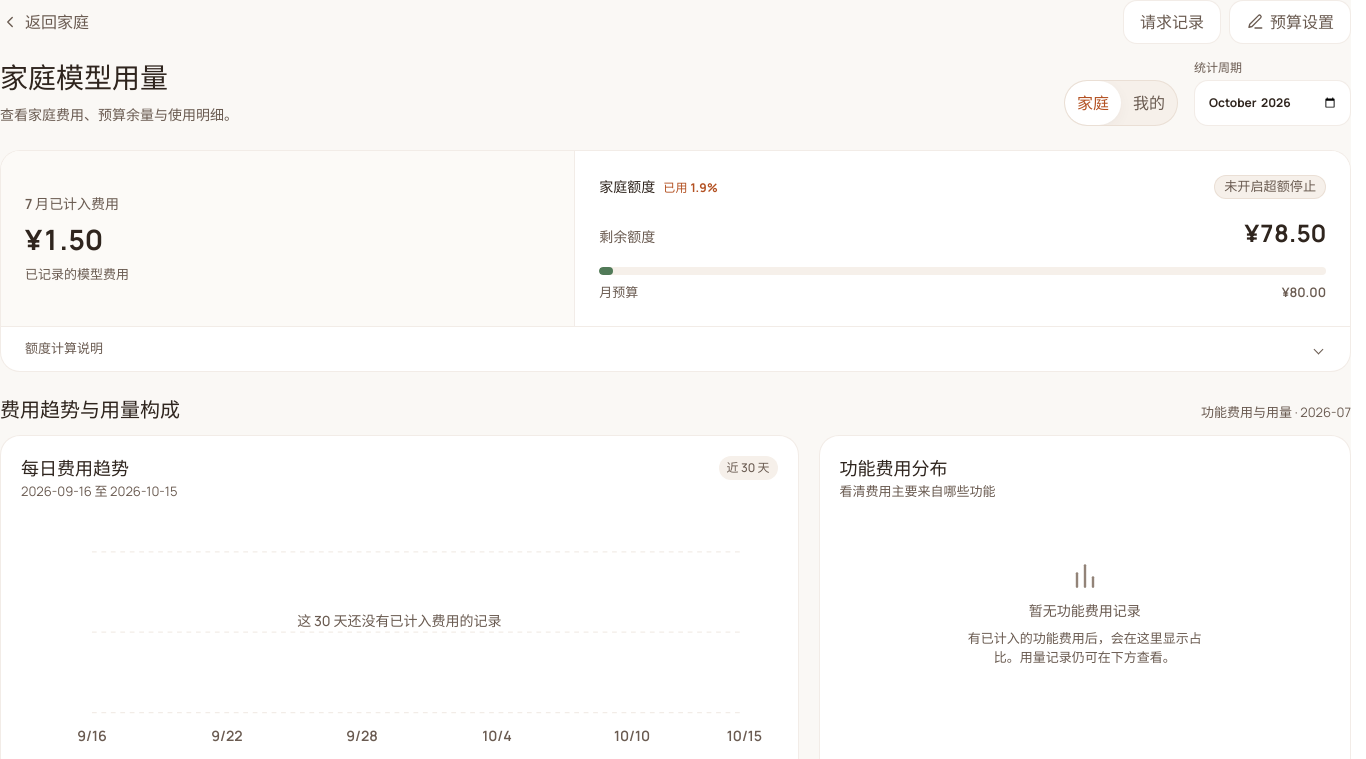
Test: ModelUsagePolicySettings › keeps one guardrail per capability and only offers meters that capability can produce
Expected: the heading "家庭模型用量" is shown, [0, 58, 168, 96]
Click the button "预算设置".
click(1290, 22)  # box [1229, 0, 1351, 44]
(page scrolled)
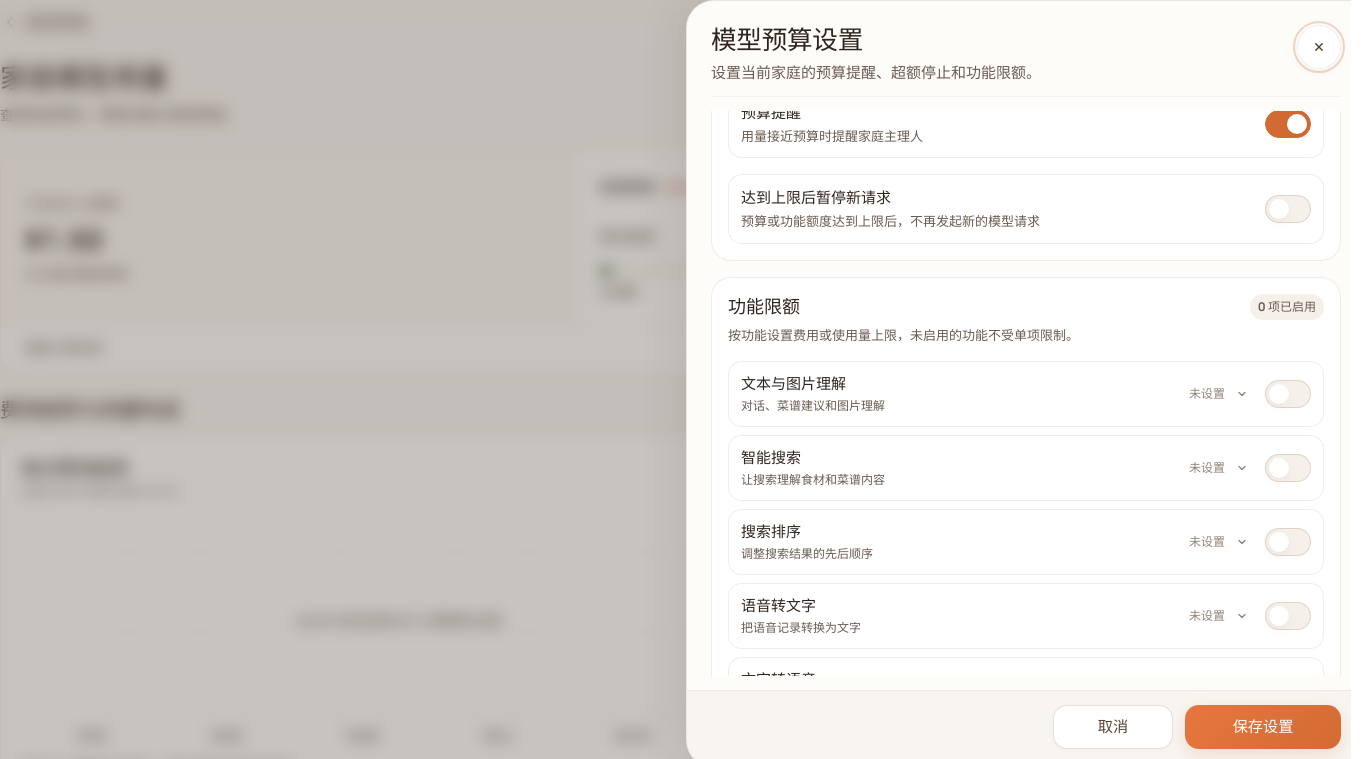
Click the checkbox named "文本与图片理解限额".
click(1288, 394)  # box [1265, 380, 1311, 408]
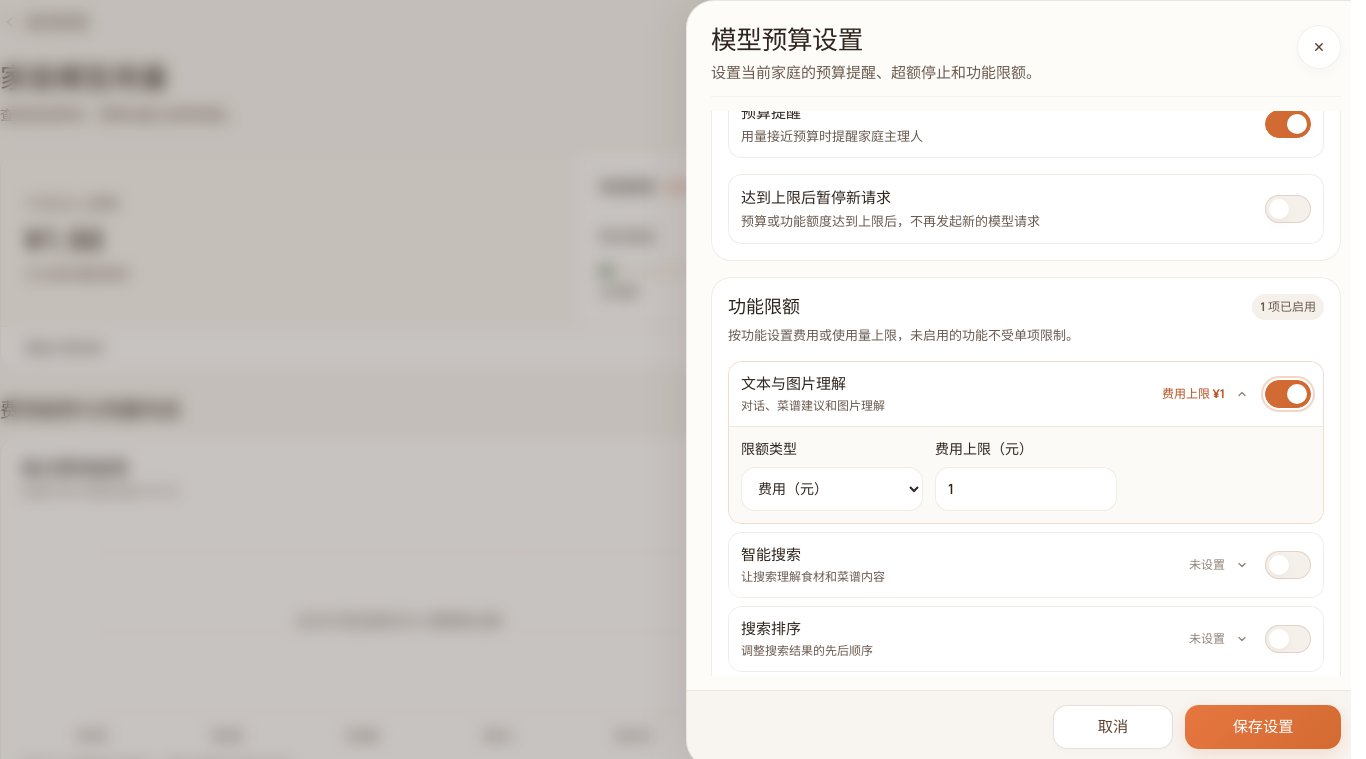
Expected: the button with aria-label "收起文本与图片理解限额设置" is expanded, [729, 362, 1265, 426]
Select "使用量" in the dropdown named "文本与图片理解限额类型" at (832, 489), box [741, 467, 923, 511]
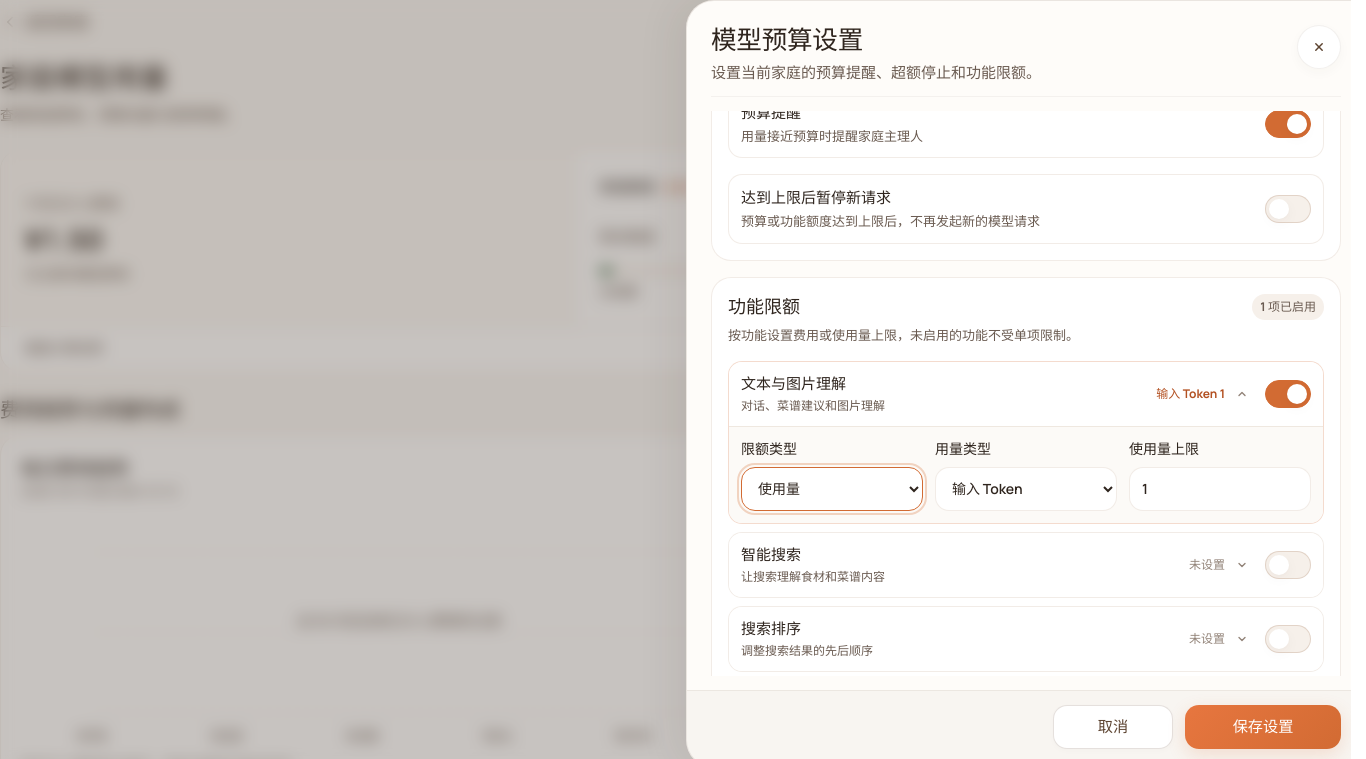
Expected: the dropdown named "文本与图片理解用量类型" shows "输入 Token", [935, 467, 1117, 511]
Replace the text in the field named "文本与图片理解限额上限" with "120.005000000000" at (1220, 489), box [1129, 467, 1311, 511]
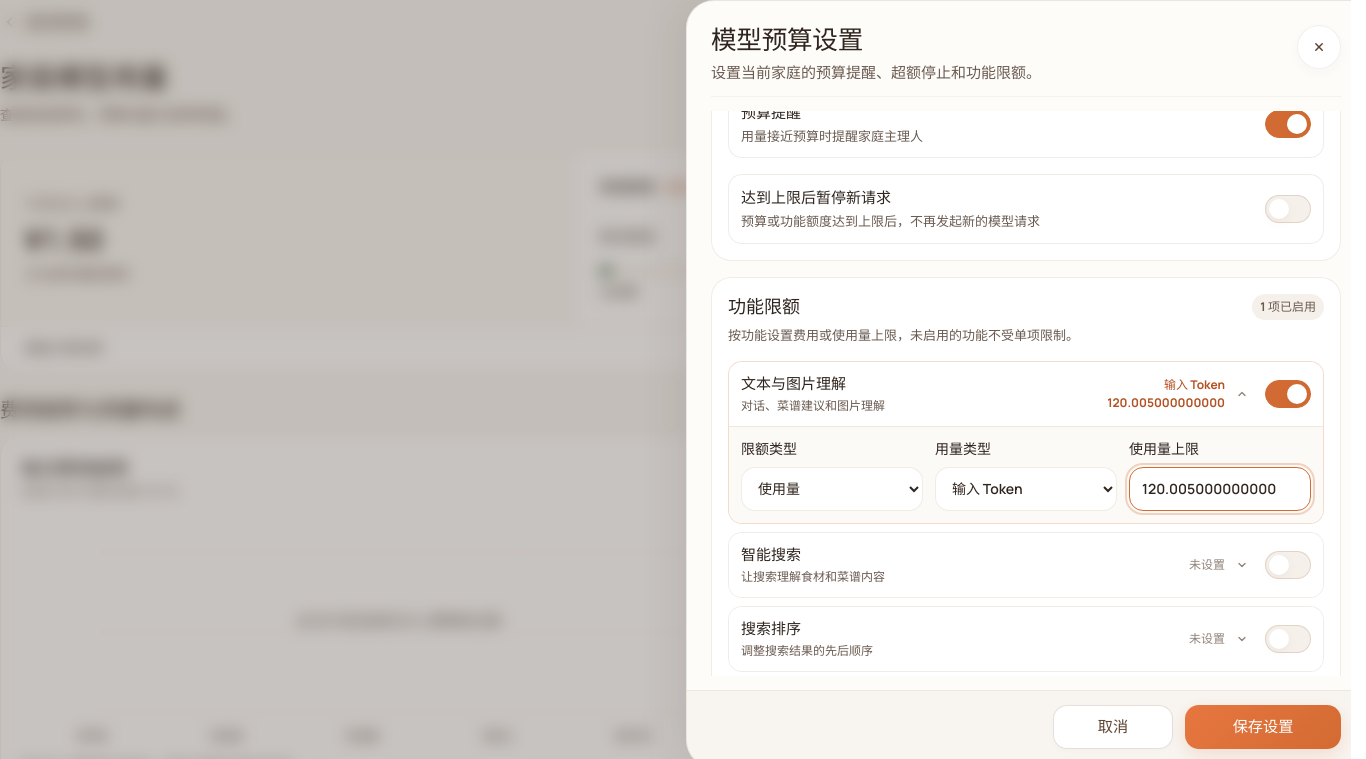
Click the button "保存设置".
click(1263, 727)  # box [1185, 705, 1341, 749]
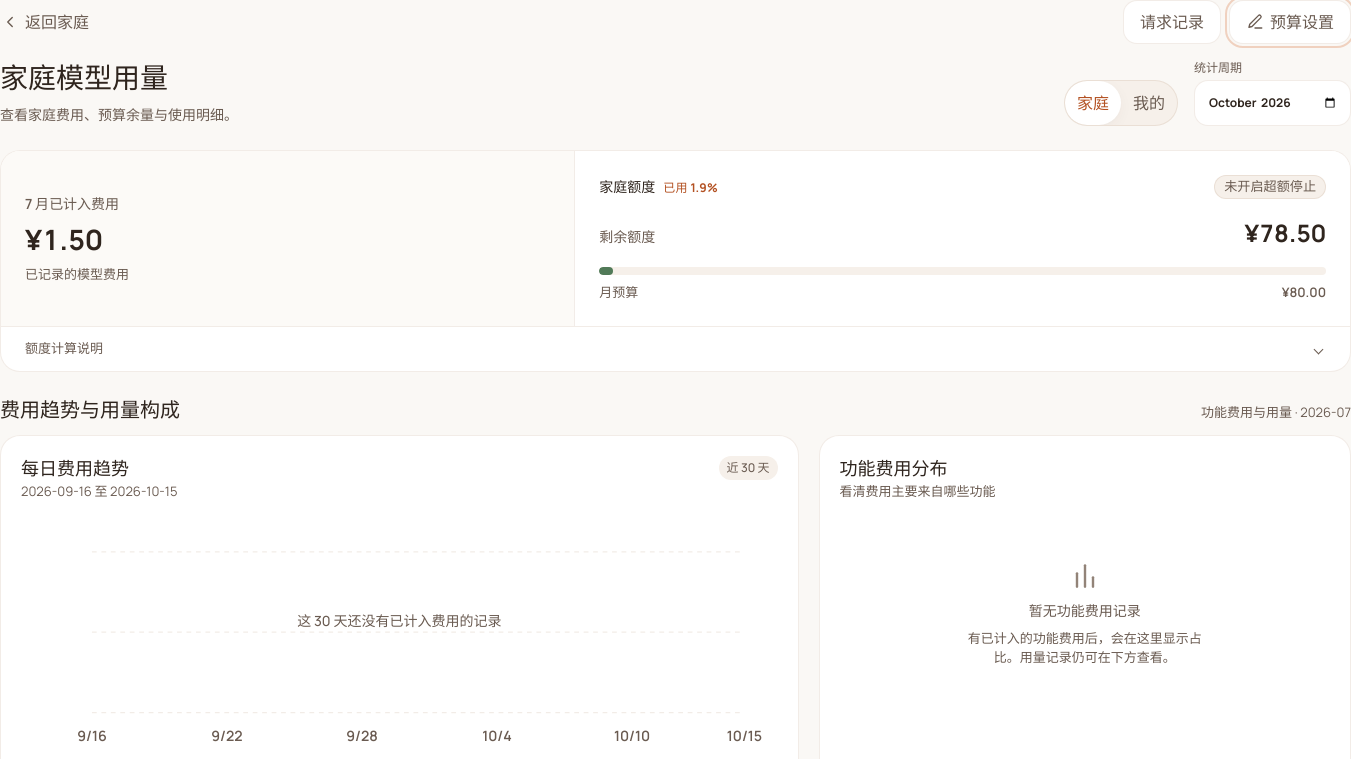
Expected: the heading "模型预算设置" is gone
